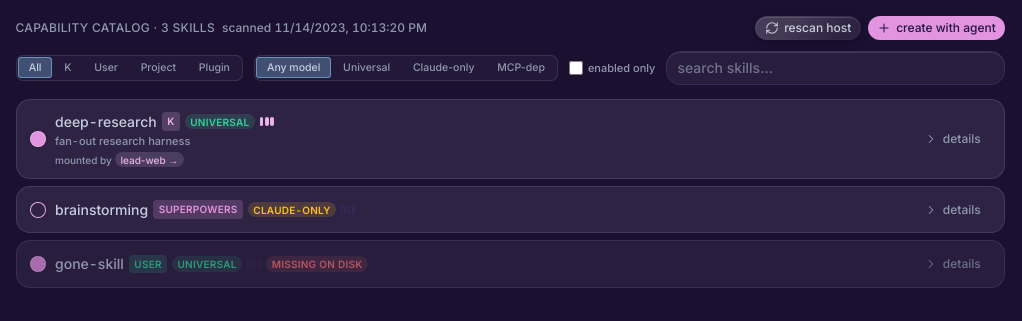
Test case: CatalogTab — rows › a toggle failure surfaces the server message in-row
Click the switch with test id "catalog-toggle-deep-research" at (38, 139), box 30,132 -> 44,146
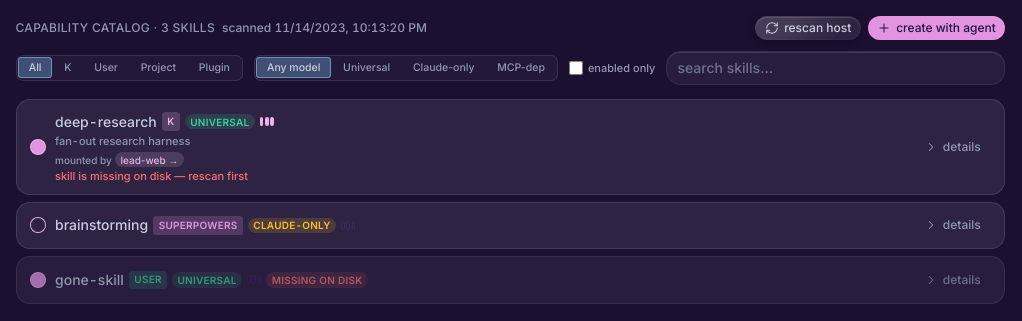
Check: the text with test id "catalog-toggle-error-deep-research" reads "skill is missing on disk — rescan first", box 55,169 -> 248,183
